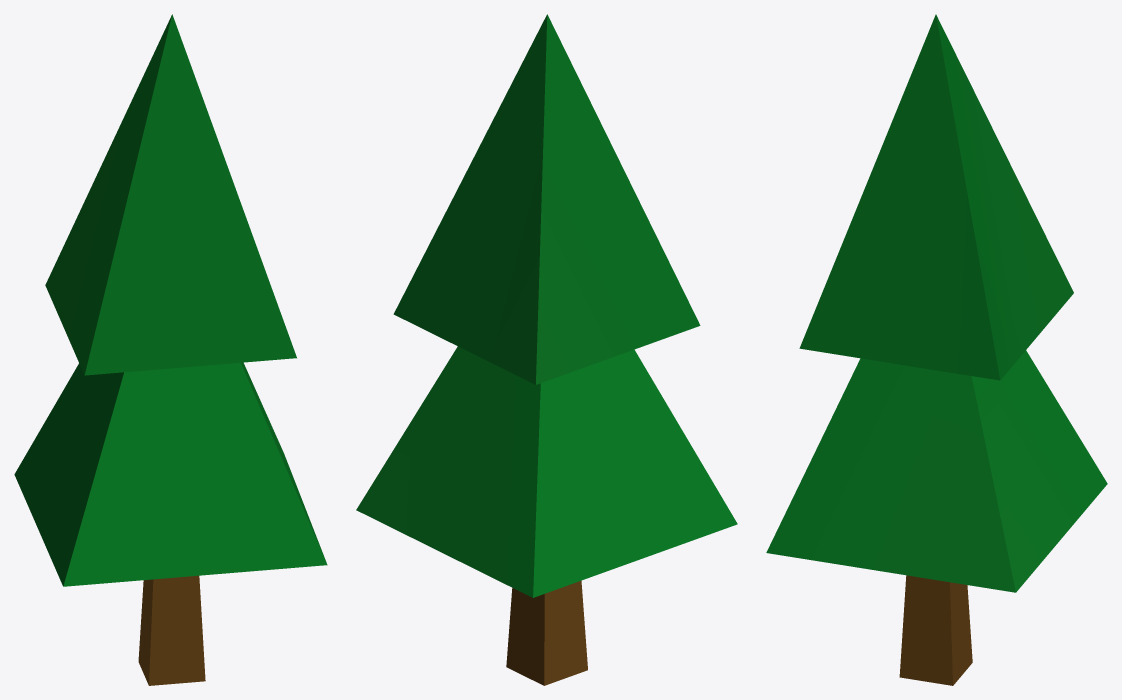
Rendered from tree.glb.
The picture shows the model from 3 angles, left to right: view 1: azimuth 30°, elevation 25°; view 2: azimuth 150°, elevation 25°; view 3: azimuth 270°, elevation 25°; orthographic projection.
Parts seen in each view (by area): view 1: PineThree; view 2: PineThree; view 3: PineThree.
Part boxes in pixels (x1,y1,x2,y2): PineThree: [14, 14, 327, 685]; PineThree: [356, 14, 737, 685]; PineThree: [766, 14, 1107, 685].
Size of the model in its own units: 0.2759 by 0.5738 by 0.2707.
